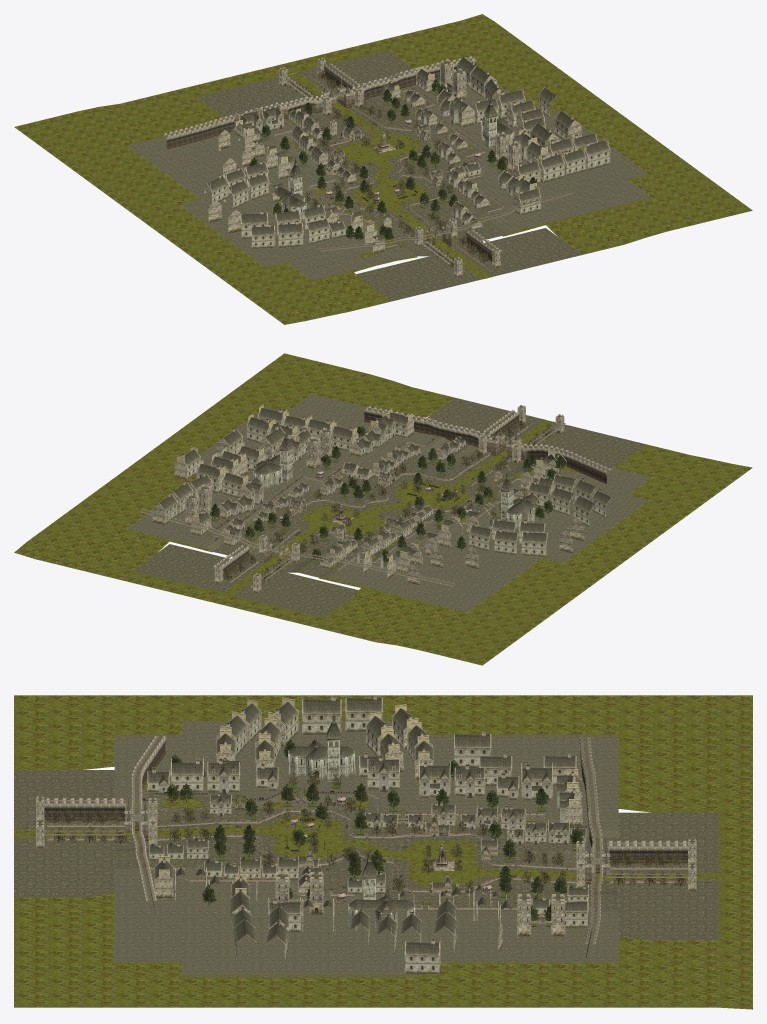
Rendered from map_T03.glb.
The picture shows the model from 3 angles, top to bottom: view 1: azimuth 30°, elevation 25°; view 2: azimuth 150°, elevation 25°; view 3: azimuth 270°, elevation 25°; orthographic projection. The views are drawn at different scales.
Visible parts, largest first — view 1: default_ground, OM_09_sn_T03blgd01C (×5), OM_09_sn_T03blgd05A (×2), OM_09_sn_T03blgd07A (×2), OM_09_sn_T03Wal01B, OM_09_sn_T03blgd02B, OM_09_sn_T03blgd01A, OM_09_sn_T03blgd01B, OM_09_sn_T03blgd04B; view 2: default_ground, OM_09_sn_T03blgd01C (×4), OM_09_sn_T03blgd05A (×2), OM_09_sn_T03blgd07A (×2), OM_09_sn_T03Wal01A, OM_09_sn_T03blgd01B, OM_09_sn_T03Wal03H, OM_09_sn_T03blgd01A, OM_09_sn_T03blgd04B; view 3: default_ground, OM_09_sn_T03blgd01C (×9), OM_09_sn_T03blgd01B (×5), OM_09_sn_T03blgd05A (×2), OM_09_sn_T03blgd02B (×3), OM_09_sn_T03blgd04B (×3), OM_09_sn_T03blgd07A (×2), OM_09_sn_T03blgd01A (×3), OM_09_sn_T03blgd03B (×2), OM_09_sn_T03blgd01D, OM_09_sn_T03Wal01B, OM_09_sn_T03Wal01A (+1 smaller).
Boxes of the visible parts, x1=… form: default_ground: x1=14, y1=14, x2=752, y2=324; OM_09_sn_T03blgd01C (×5): x1=250, y1=136, x2=610, y2=248; OM_09_sn_T03blgd05A (×2): x1=272, y1=97, x2=514, y2=220; OM_09_sn_T03blgd07A (×2): x1=440, y1=59, x2=521, y2=173; OM_09_sn_T03Wal01B: x1=314, y1=78, x2=358, y2=112; OM_09_sn_T03blgd02B: x1=449, y1=96, x2=474, y2=127; OM_09_sn_T03blgd01A: x1=513, y1=185, x2=541, y2=215; OM_09_sn_T03blgd01B: x1=554, y1=110, x2=581, y2=139; OM_09_sn_T03blgd04B: x1=234, y1=108, x2=262, y2=138; default_ground: x1=14, y1=353, x2=752, y2=665; OM_09_sn_T03blgd01C (×4): x1=174, y1=413, x2=547, y2=556; OM_09_sn_T03blgd05A (×2): x1=253, y1=430, x2=538, y2=528; OM_09_sn_T03blgd07A (×2): x1=185, y1=427, x2=332, y2=524; OM_09_sn_T03Wal01A: x1=486, y1=426, x2=527, y2=460; OM_09_sn_T03blgd01B: x1=152, y1=493, x2=177, y2=524; OM_09_sn_T03Wal03H: x1=418, y1=416, x2=453, y2=440; OM_09_sn_T03blgd01A: x1=332, y1=422, x2=358, y2=451; OM_09_sn_T03blgd04B: x1=368, y1=412, x2=395, y2=444; default_ground: x1=14, y1=695, x2=752, y2=1009; OM_09_sn_T03blgd01C (×9): x1=216, y1=697, x2=440, y2=974; OM_09_sn_T03blgd01B (×5): x1=302, y1=695, x2=576, y2=785; OM_09_sn_T03blgd05A (×2): x1=287, y1=712, x2=415, y2=930; OM_09_sn_T03blgd02B (×3): x1=207, y1=755, x2=485, y2=798; OM_09_sn_T03blgd04B (×3): x1=418, y1=760, x2=582, y2=825; OM_09_sn_T03blgd07A (×2): x1=275, y1=871, x2=565, y2=936; OM_09_sn_T03blgd01A (×3): x1=154, y1=856, x2=588, y2=931; OM_09_sn_T03blgd03B (×2): x1=256, y1=763, x2=519, y2=799; OM_09_sn_T03blgd01D: x1=170, y1=757, x2=203, y2=792; OM_09_sn_T03Wal01B: x1=585, y1=839, x2=610, y2=887; OM_09_sn_T03Wal01A: x1=124, y1=796, x2=149, y2=845.
Bounding box in the file's own units: 528 × 58.18 × 528.
Materials: 290 (290 with a texture image).
